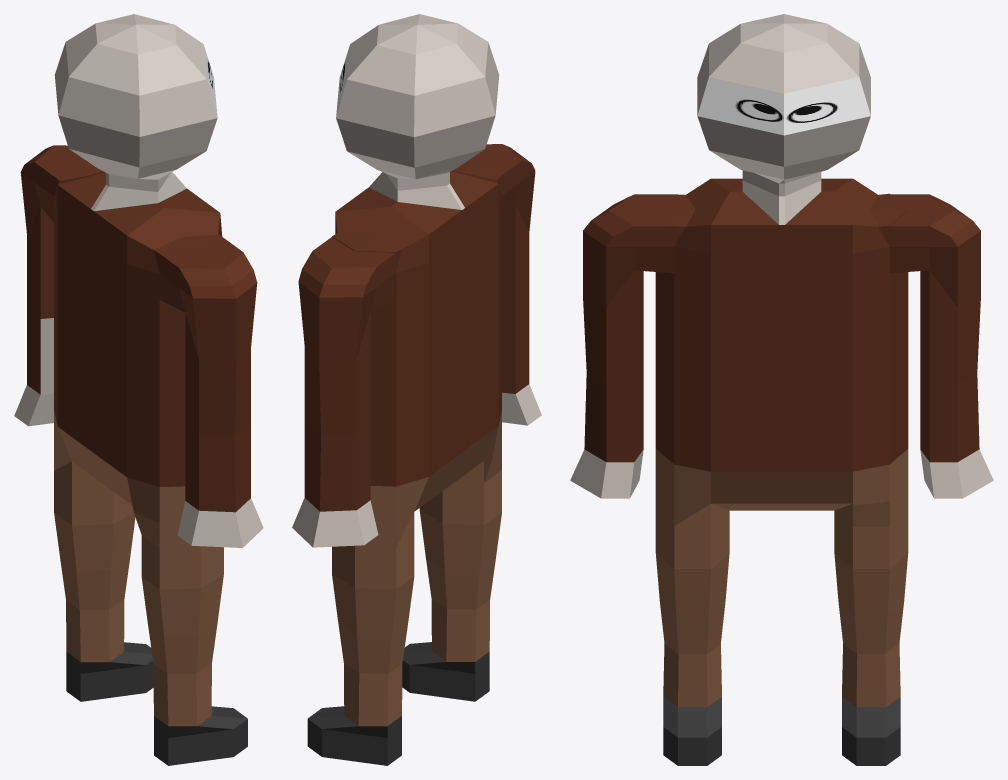
File: SpielerNeu.fbx
The picture shows the model from 3 angles, left to right: view 1: azimuth 30°, elevation 25°; view 2: azimuth 150°, elevation 25°; view 3: azimuth 270°, elevation 25°; orthographic projection. The views are drawn at different scales.
Visible parts, largest first — view 1: Sphere; view 2: Sphere; view 3: Sphere.
Part boxes in pixels (<box>): Sphere: <box>14,14,263,765</box>; Sphere: <box>292,14,541,765</box>; Sphere: <box>570,14,993,765</box>.
Size of the model in its own units: 623 by 2672 by 1440.
